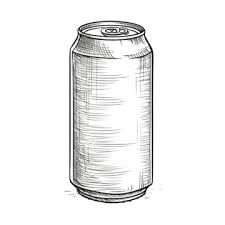can: (70, 19, 154, 204)
